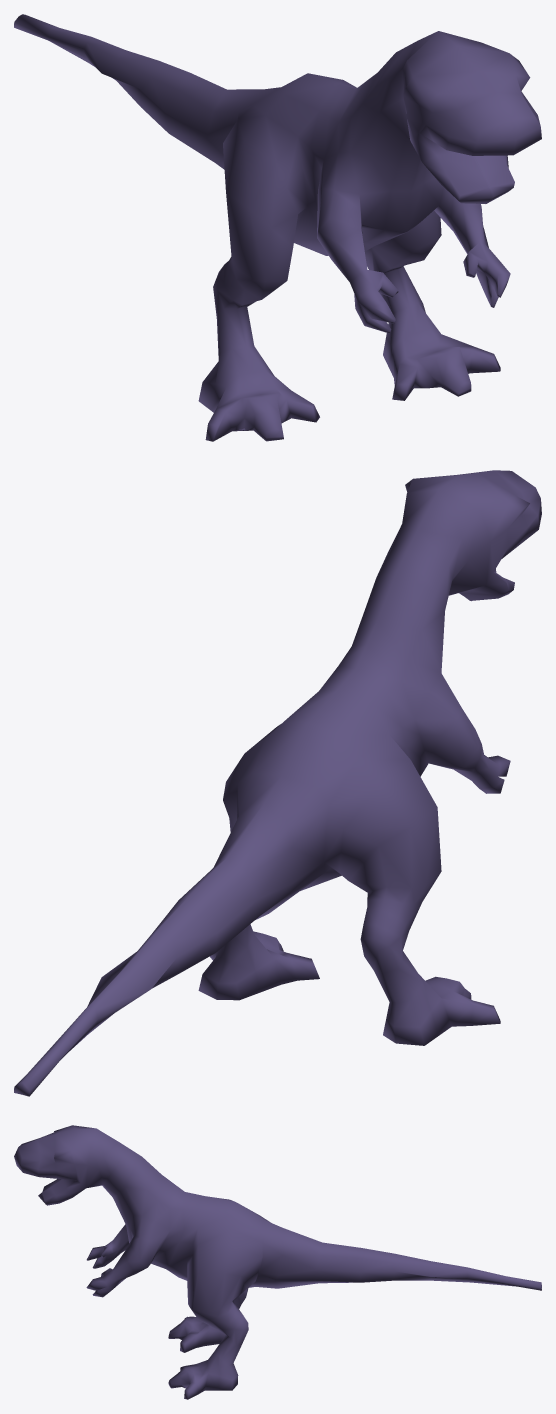
Rendered from model-dinosaur.glb.
3 renders of one model, top to bottom at view 1: azimuth 30°, elevation 25°; view 2: azimuth 150°, elevation 25°; view 3: azimuth 270°, elevation 25°, orthographic. The views are drawn at different scales.
Parts seen in each view (by area): view 1: Dinosaur; view 2: Dinosaur; view 3: Dinosaur.
Part boxes in pixels (<box>): Dinosaur: <box>14,14,541,441</box>; Dinosaur: <box>14,470,541,1096</box>; Dinosaur: <box>14,1125,541,1399</box>.
Bounding box in the file's own units: 1.35 × 1.91 × 3.91.
